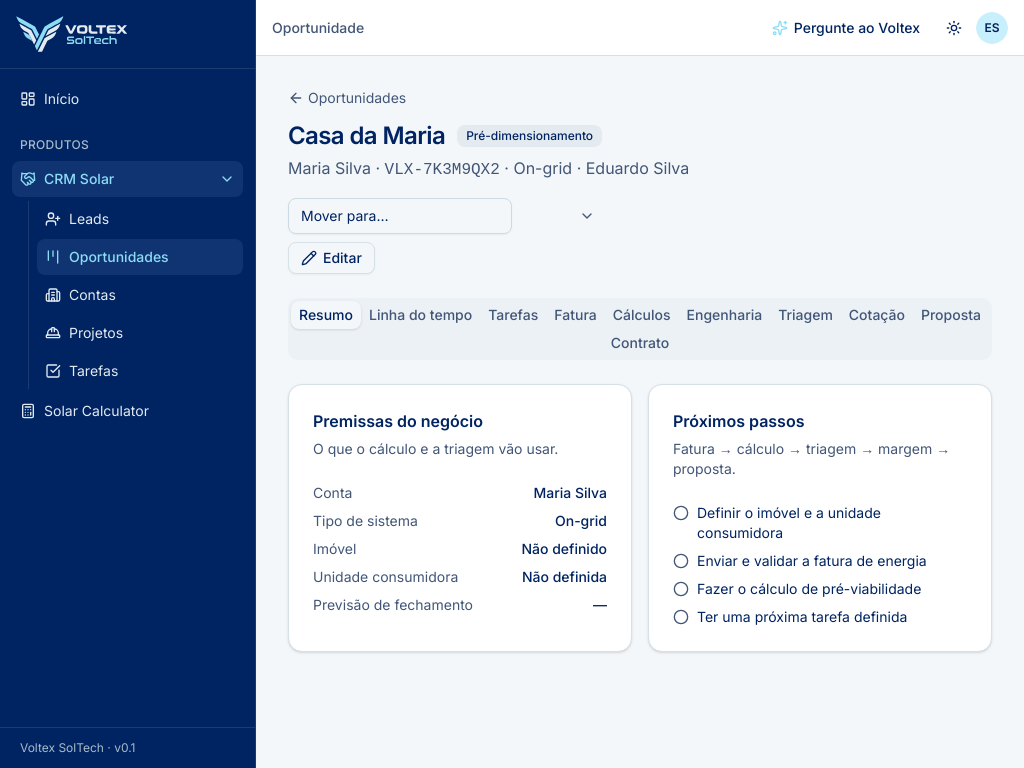
Test case: Oportunidade · Triagem › quem não tem a permissão de liberar não vê o botão
The image size is (1024, 768).
Click the tab "Triagem".
click(805, 315)  # box left=770, top=301, right=841, bottom=329
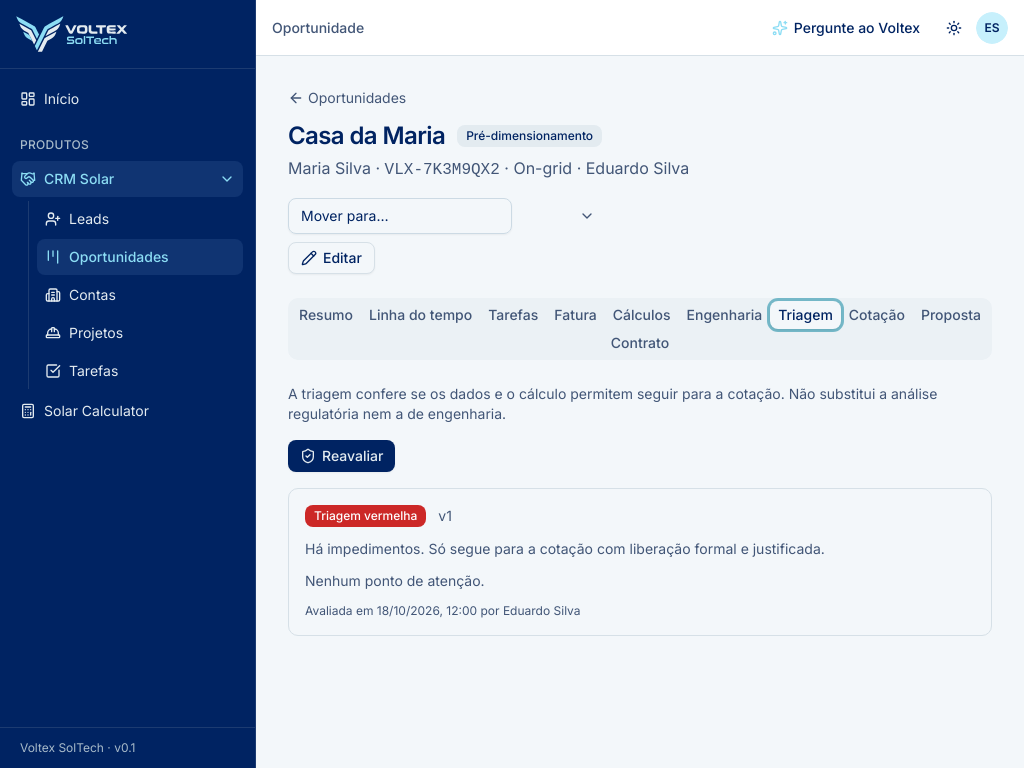
Now the text "Triagem vermelha" is shown, box left=305, top=505, right=426, bottom=527
Now the button "Reavaliar" is shown, box left=288, top=440, right=395, bottom=472
